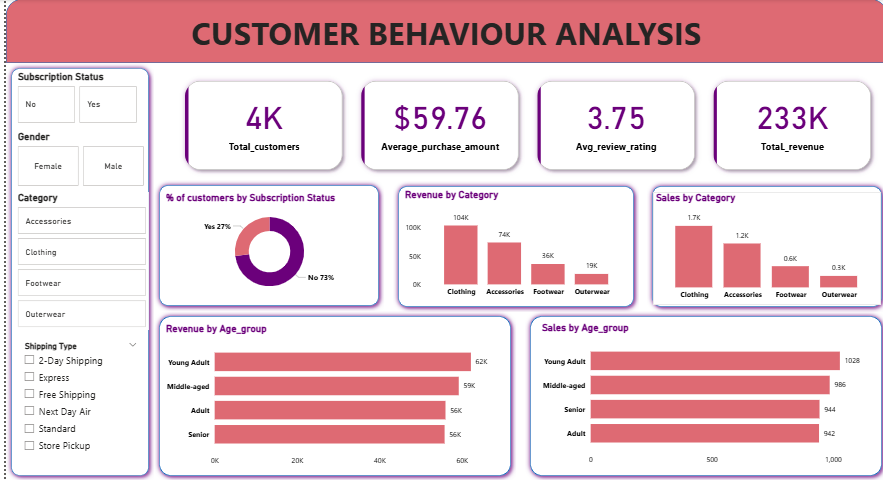

What the dashboard file says about the page in this screenshot:
{"tool":"powerbi","page":{"name":"Page 1","canvas":[1500,821],"ordinal":0},"visuals":[{"type":"cardVisual","fields":{"Data":["public customer.Total_customers","public customer.Average_purchase_amount","public customer.Avg_review_rating","public customer.TotaL_revenue"]},"box":[287.9,122.6,1202.5,185.7],"z":2},{"type":"shape","box":[0,0,1500.6,109],"z":3},{"type":"textbox","box":[0,15.3,1500.6,93.7],"z":4},{"type":"shape","box":[252.1,308.3,391.8,223.1],"z":5},{"type":"donutChart","title":"% of customers by Subscription Status","fields":{"Y":["public customer.Total_customers"],"Category":["public customer.subscription_status"]},"box":[267.4,328.7,362.8,182.3],"z":6},{"type":"shape","box":[659.2,310,419,223.1],"z":7},{"type":"shape","box":[1091.8,310,408.8,223.1],"z":8},{"type":"clusteredColumnChart","title":"Revenue by Category","fields":{"Y":["Sum(public customer.purchase_amount)"],"Category":["public customer.category"]},"box":[674.5,323.6,388.4,192.5],"z":9},{"type":"clusteredColumnChart","title":"Sales by Category","fields":{"Y":["CountNonNull(public customer.customer_id)"],"Category":["public customer.category"]},"box":[1102,328.7,388.4,192.5],"z":10},{"type":"shape","box":[0,109,252.1,712],"z":11},{"type":"advancedSlicerVisual","title":"Subscription Status","fields":{"Values":["public customer.subscription_status"]},"box":[15.3,122.6,212.9,93.7],"z":12},{"type":"advancedSlicerVisual","title":"Gender","fields":{"Values":["public customer.gender"]},"box":[15.3,224.8,224.8,98.8],"z":13},{"type":"advancedSlicerVisual","title":"Category","fields":{"Values":["public customer.category"]},"box":[15.3,328.7,228.2,235.1],"z":14},{"type":"slicer","fields":{"Values":["public customer.shipping_type"]},"box":[18.7,577.4,216.3,226.5],"z":15},{"type":"shape","box":[252.1,531.4,616.6,289.6],"z":16},{"type":"clusteredBarChart","title":"Revenue by Age_group","fields":{"Category":["public customer.age_group"],"Y":["Sum(public customer.purchase_amount)"]},"box":[267.4,551.9,568.9,252.1],"z":17},{"type":"shape","box":[884,531.4,616.6,289.6],"z":18},{"type":"clusteredBarChart","title":"Sales by Age_group","fields":{"Category":["public customer.age_group"],"Y":["CountNonNull(public customer.customer_id)"]},"box":[907.9,550.2,568.9,252.1],"z":19}]}

Visuals, with their boxes in screenshot pixels (x1, y1, x2, y2), scaled from the page's 1500x821 canvas onto the 883x480 screenshot:
cardVisual - public customer.Total_customers x public customer.Average_purchase_amount: [169,72,877,180]
shape: [0,0,882,64]
textbox: [0,9,882,64]
shape: [148,180,379,311]
"% of customers by Subscription Status" donutChart: [157,192,371,299]
shape: [388,181,635,312]
shape: [643,181,882,312]
"Revenue by Category" clusteredColumnChart: [397,189,626,302]
"Sales by Category" clusteredColumnChart: [649,192,877,305]
shape: [0,64,148,479]
"Subscription Status" advancedSlicerVisual: [9,72,134,126]
"Gender" advancedSlicerVisual: [9,131,141,189]
"Category" advancedSlicerVisual: [9,192,143,330]
slicer - public customer.shipping_type: [11,338,138,470]
shape: [148,311,511,479]
"Revenue by Age_group" clusteredBarChart: [157,323,492,470]
shape: [520,311,882,479]
"Sales by Age_group" clusteredBarChart: [534,322,869,469]
